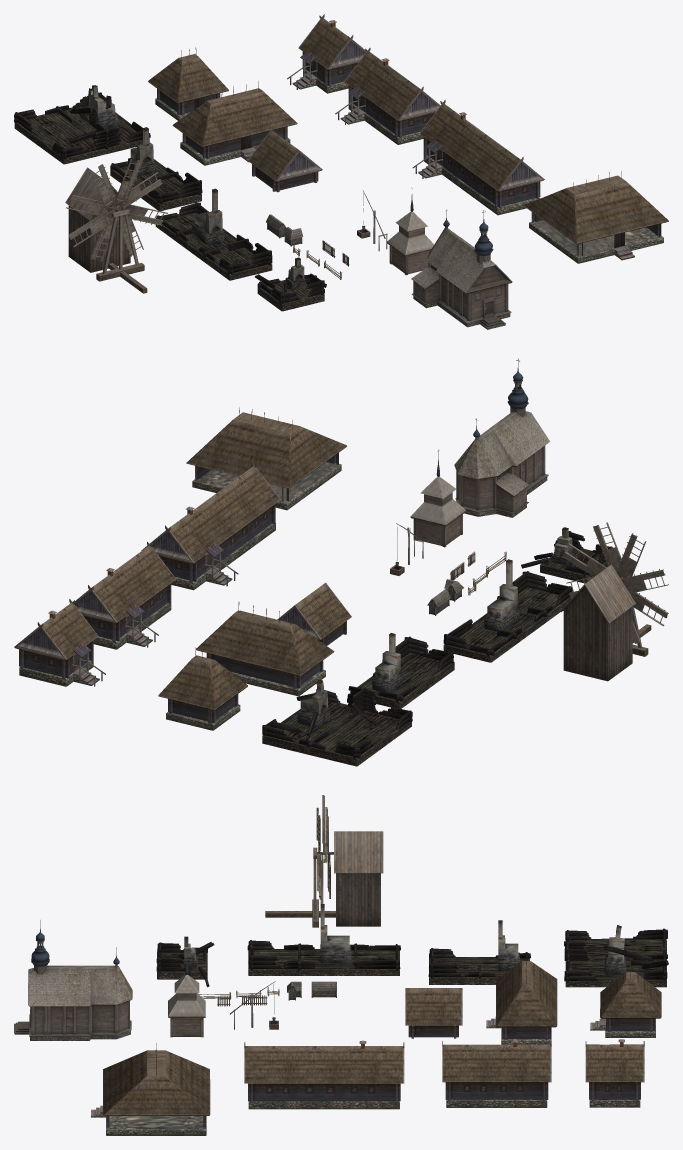
Rendered from belarusian_village.glb.
The picture shows the model from 3 angles, top to bottom: view 1: azimuth 30°, elevation 25°; view 2: azimuth 150°, elevation 25°; view 3: azimuth 270°, elevation 25°; orthographic projection. The views are drawn at different scales.
Visible parts, largest first — view 1: Object_2, Object_7, Object_3, Object_5, Object_9, Object_8, Object_4, Object_6; view 2: Object_2, Object_7, Object_5, Object_3, Object_9, Object_8, Object_4, Object_6; view 3: Object_2, Object_3, Object_7, Object_5, Object_8, Object_9, Object_4, Object_6.
Part boxes in pixels (x1,y1,x2,y2): Object_2: [148, 14, 668, 266]; Object_7: [387, 187, 512, 329]; Object_3: [293, 100, 544, 279]; Object_5: [65, 158, 167, 293]; Object_9: [14, 85, 150, 164]; Object_8: [155, 188, 272, 280]; Object_4: [110, 127, 387, 251]; Object_6: [255, 257, 326, 311]; Object_2: [14, 407, 475, 730]; Object_7: [410, 358, 549, 547]; Object_5: [560, 522, 668, 681]; Object_3: [141, 462, 506, 595]; Object_9: [262, 680, 412, 766]; Object_8: [443, 559, 572, 662]; Object_4: [357, 523, 454, 708]; Object_6: [521, 527, 612, 583]; Object_2: [91, 953, 661, 1135]; Object_3: [198, 987, 404, 1109]; Object_7: [14, 920, 205, 1040]; Object_5: [265, 795, 383, 927]; Object_8: [247, 904, 400, 975]; Object_9: [564, 925, 668, 987]; Object_4: [230, 920, 530, 1029]; Object_6: [156, 936, 214, 986].
Size of the model in its own units: 68.84 by 15.31 by 77.73.
1 material, 1 textured.
